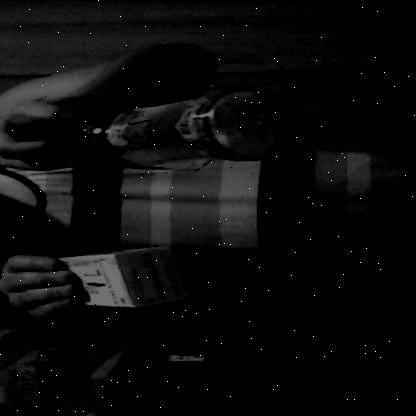Plastic Bottle: (19, 86, 323, 176)
